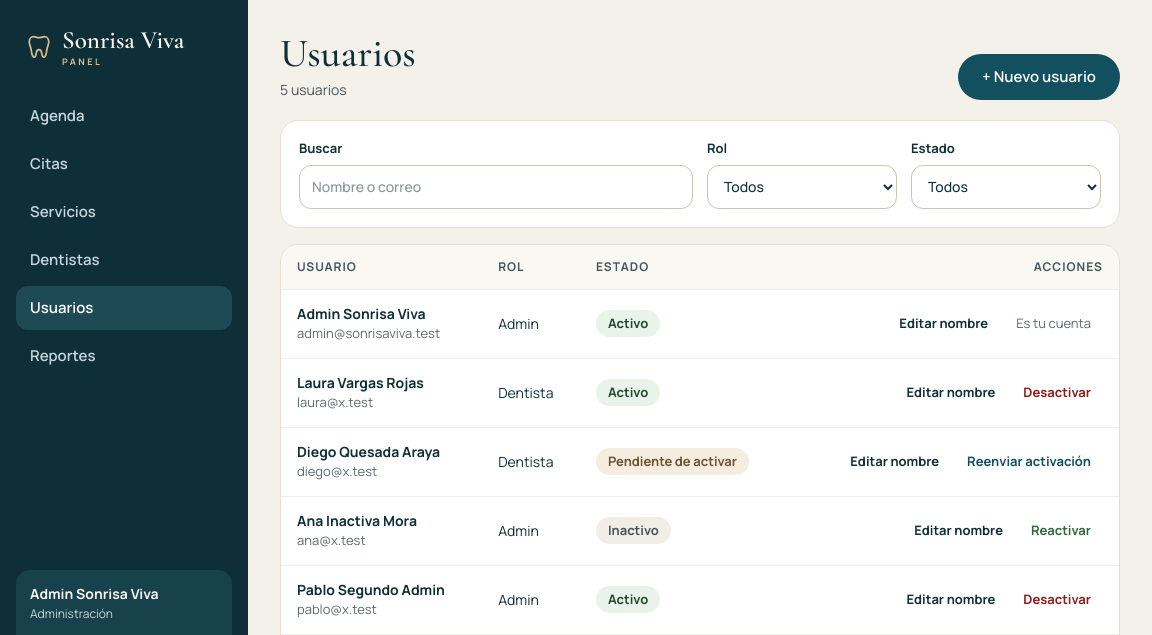
it: Usuarios › editar nombre en la misma fila
The width and height of the screenshot is (1152, 635).
Click the button with aria-label "Editar nombre de Laura Vargas Rojas". click: click(951, 392)
box: [894,370,1007,414]
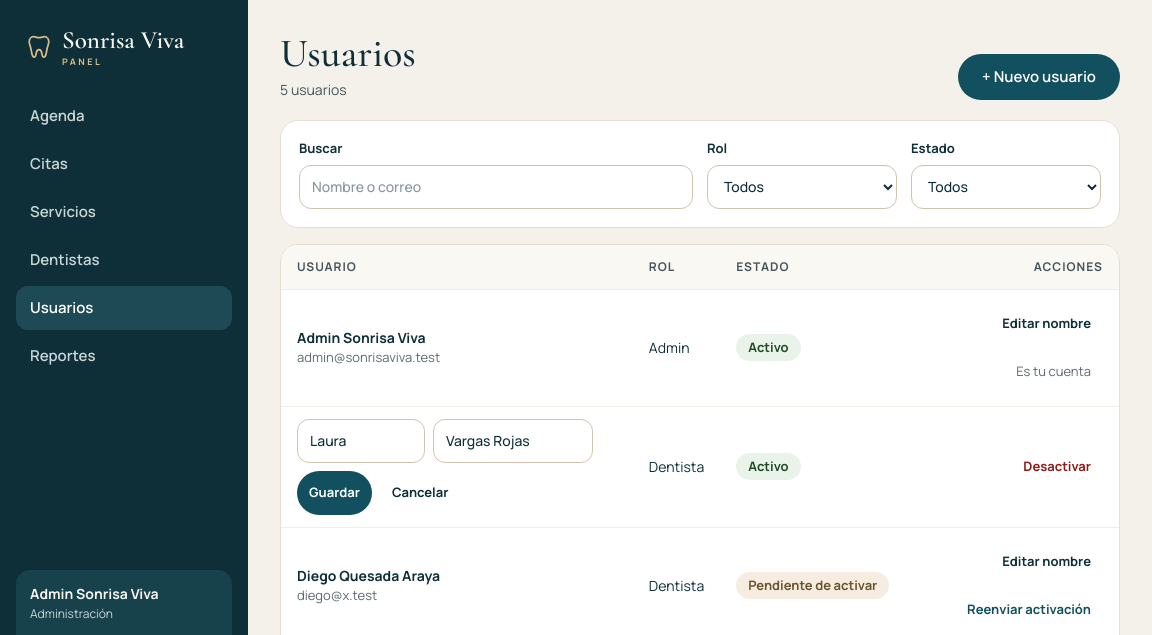
Replace the text in the field named "Apellidos de Laura Vargas Rojas" with "Vargas Solís". click: (513, 440)
box: [433,418,593,462]
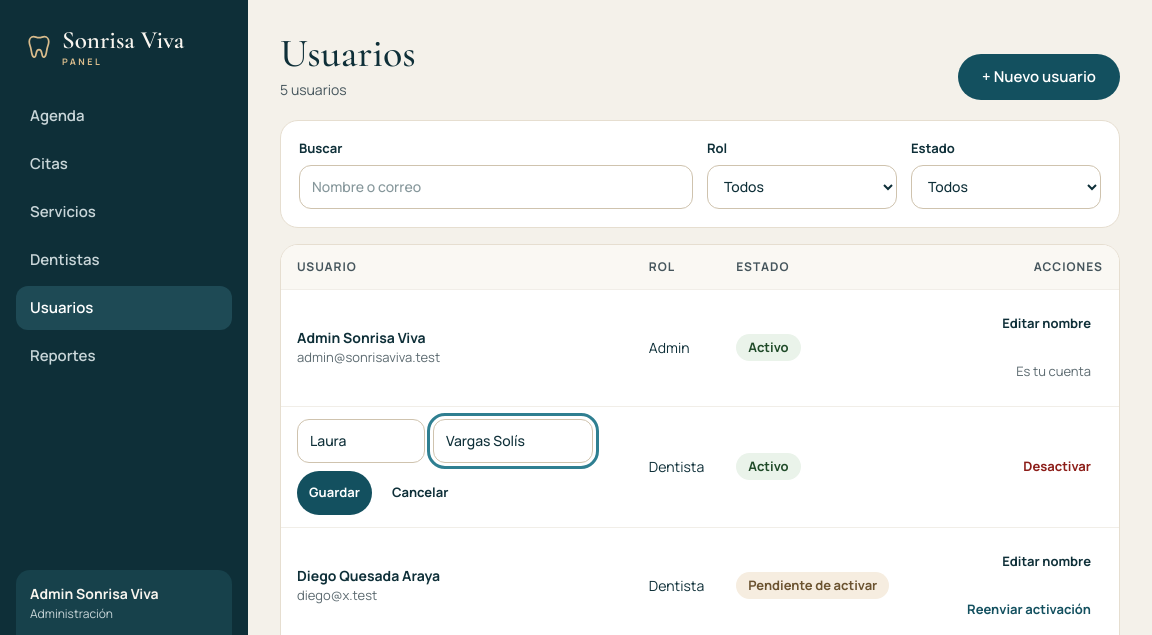
Click the button "Guardar". click: click(334, 492)
box: [297,470,372,514]
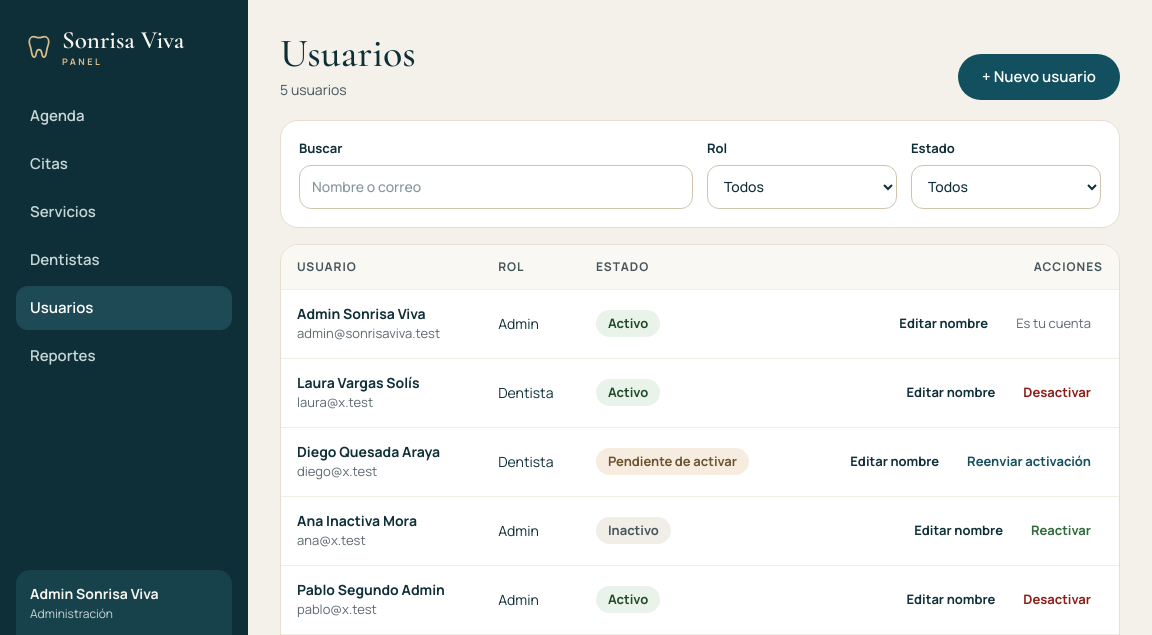
Check: the text "Laura Vargas Solís" is shown, box [297,373,420,392]
